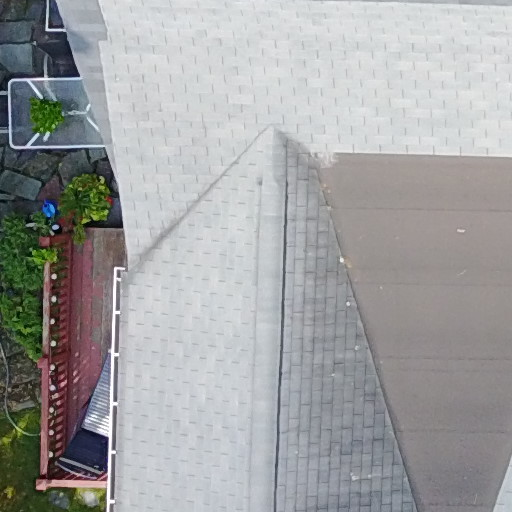porch: (18, 190, 142, 512)
